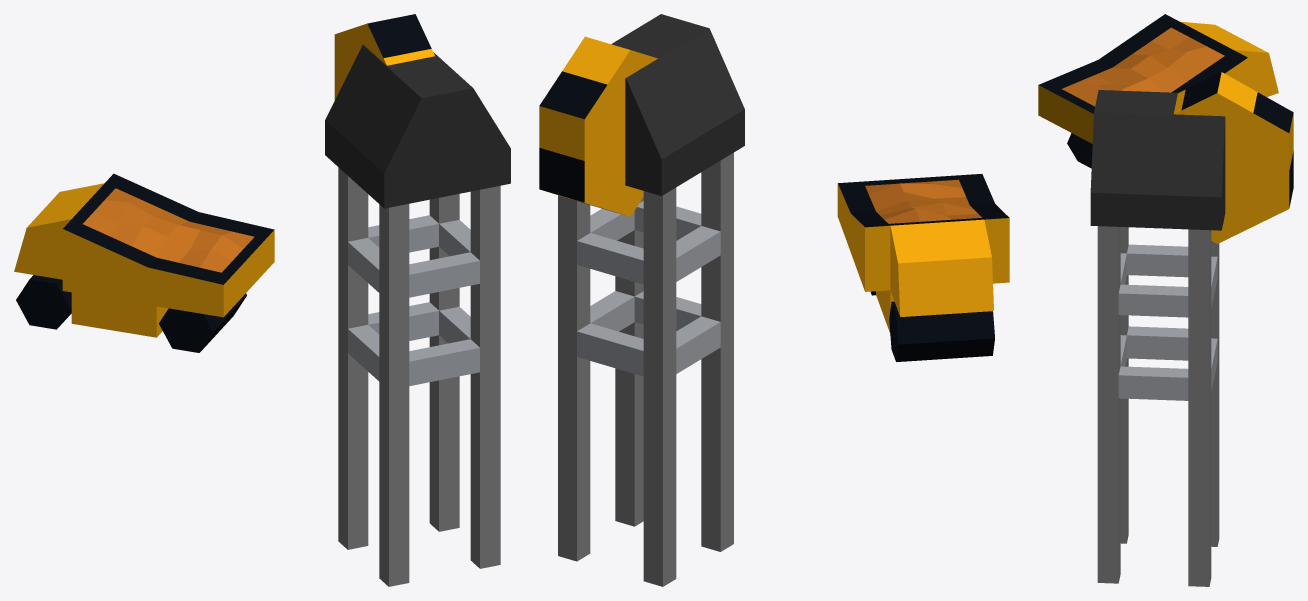
Rendered from Border_11_exploring.fbx.
3 renders of one model, left to right at view 1: azimuth 30°, elevation 25°; view 2: azimuth 150°, elevation 25°; view 3: azimuth 270°, elevation 25°, orthographic. The views are drawn at different scales.
Parts seen in each view (by area): view 1: Cube.024, Cube.025, Cylinder.011; view 2: Cube.024, Cube.025, Cylinder.011; view 3: Cube.024, Cube.025, Cylinder.011.
Part boxes in pixels (x1,y1,x2,y2): Cube.024: (325, 44, 510, 586); Cube.025: (14, 173, 274, 352); Cylinder.011: (334, 14, 434, 100); Cube.024: (558, 14, 744, 586); Cube.025: (837, 174, 1009, 361); Cylinder.011: (539, 36, 657, 216); Cube.024: (1090, 90, 1225, 586); Cube.025: (1038, 14, 1278, 168); Cylinder.011: (1173, 72, 1293, 243).
Bounding box in the file's own units: 141 × 158 × 75.95.
